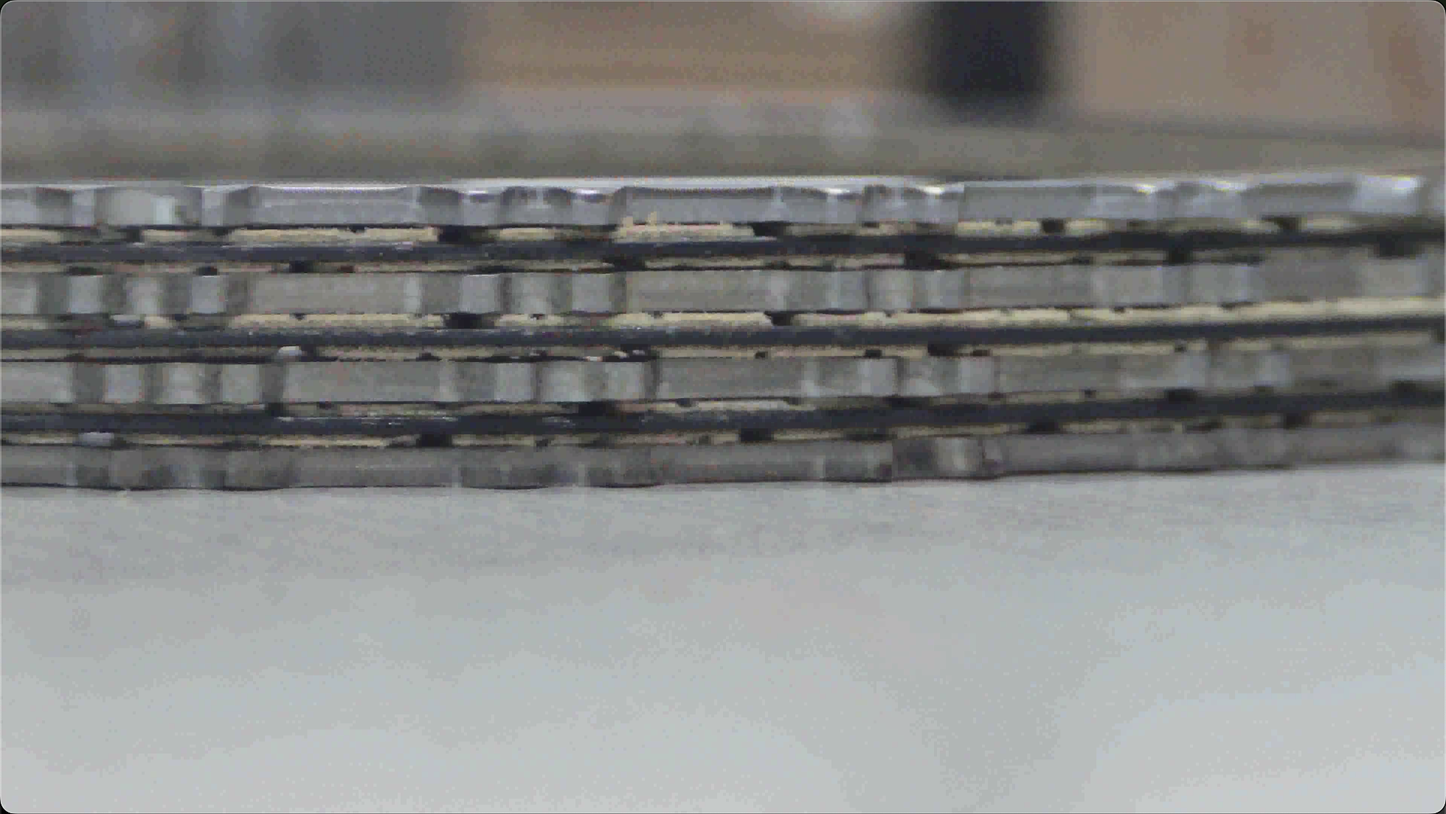Black metal plate: (0, 420, 1445, 490)
shiney metal plate: (86, 32, 1382, 721), (81, 35, 1446, 556), (110, 334, 1446, 814)
spacer: (0, 388, 1445, 436), (0, 549, 1430, 588), (5, 316, 1445, 354)
